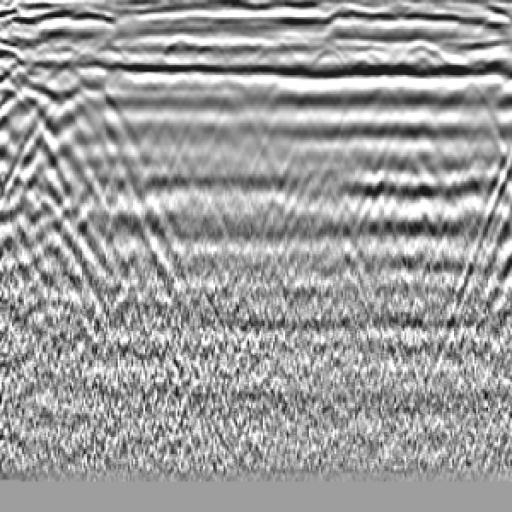non-metallic: (2, 34, 187, 322), (429, 46, 512, 367), (466, 43, 512, 332)
